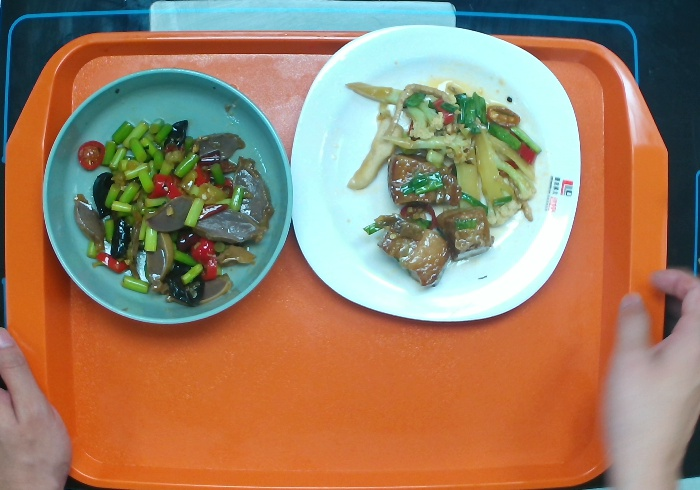ZNLD-Qing_Hua_Yuan_Wan: (39, 65, 296, 327)
ZNLD-Yuan_Jiao_Pan: (287, 20, 585, 327)
